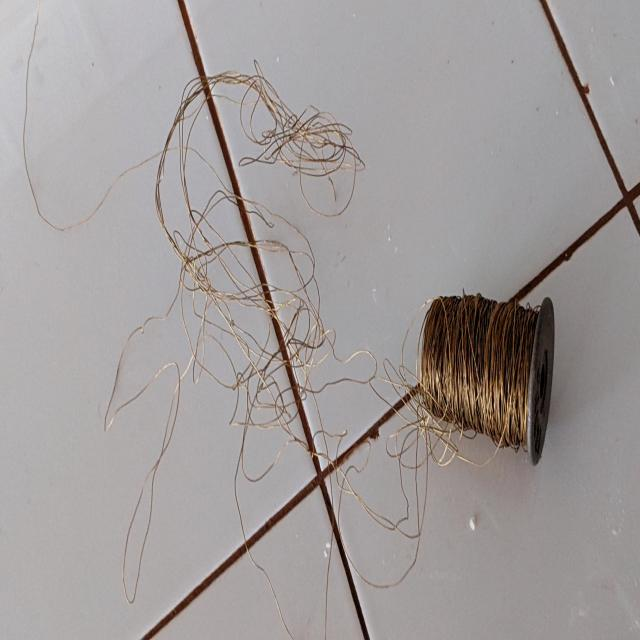Wire Coil: (412, 272, 562, 483)
